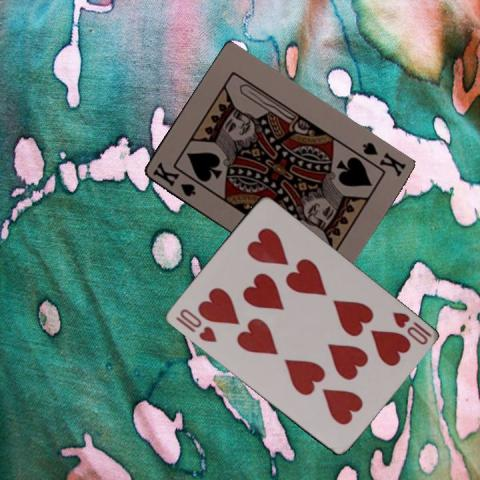10h: (172, 305, 217, 344), (389, 308, 432, 346)
Ks: (150, 159, 198, 199), (358, 138, 406, 178)
